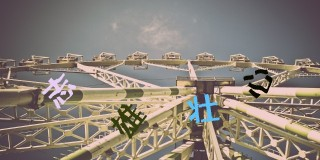壮: (187, 93, 222, 124)
心: (243, 69, 274, 98)
志: (42, 72, 78, 110)
雄: (110, 103, 148, 138)
